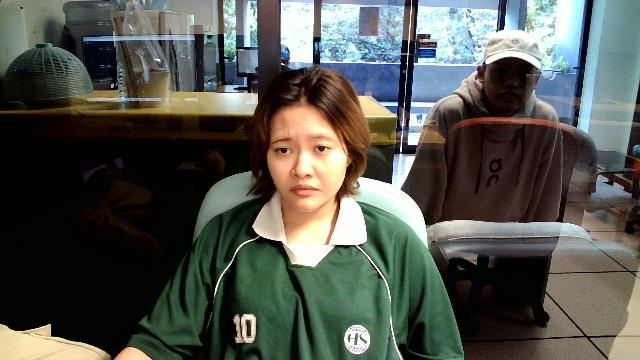fokus: (261, 71, 356, 212)
